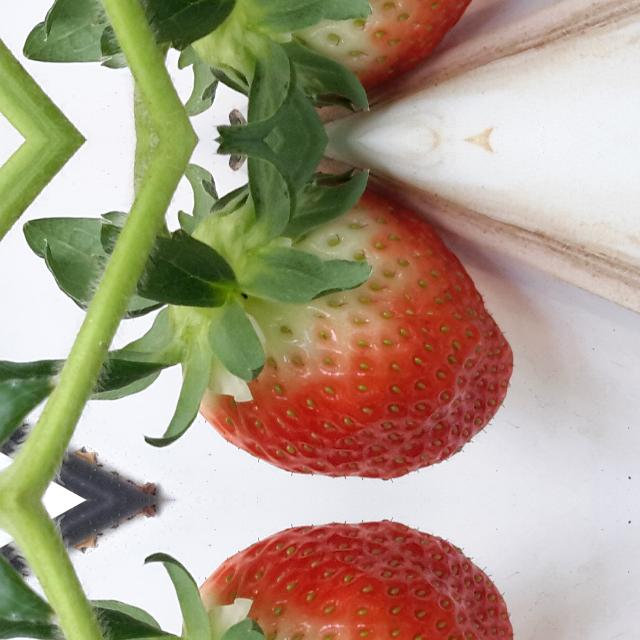Health_100: (168, 185, 514, 480), (168, 519, 513, 640), (168, 0, 513, 94)
